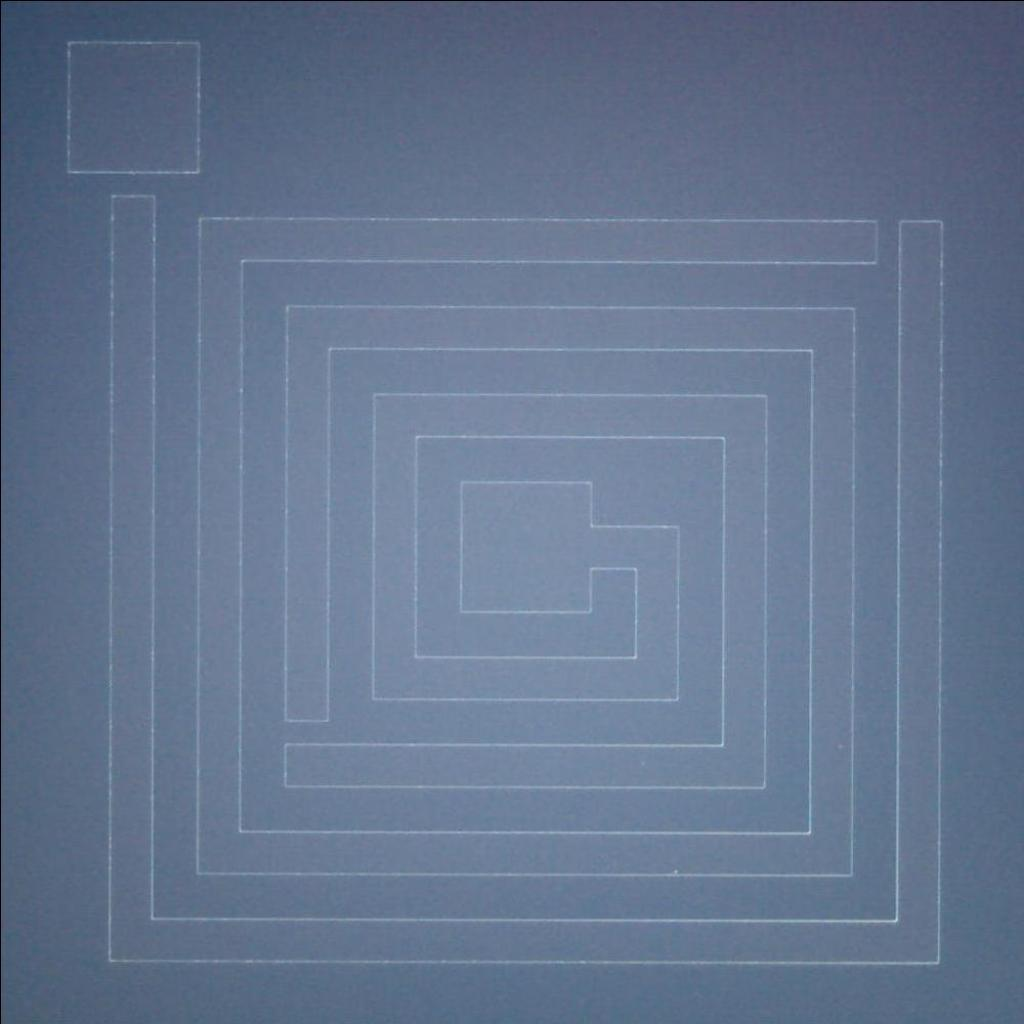short circuit: (272, 698, 354, 760), (97, 158, 170, 221), (858, 212, 919, 272)
